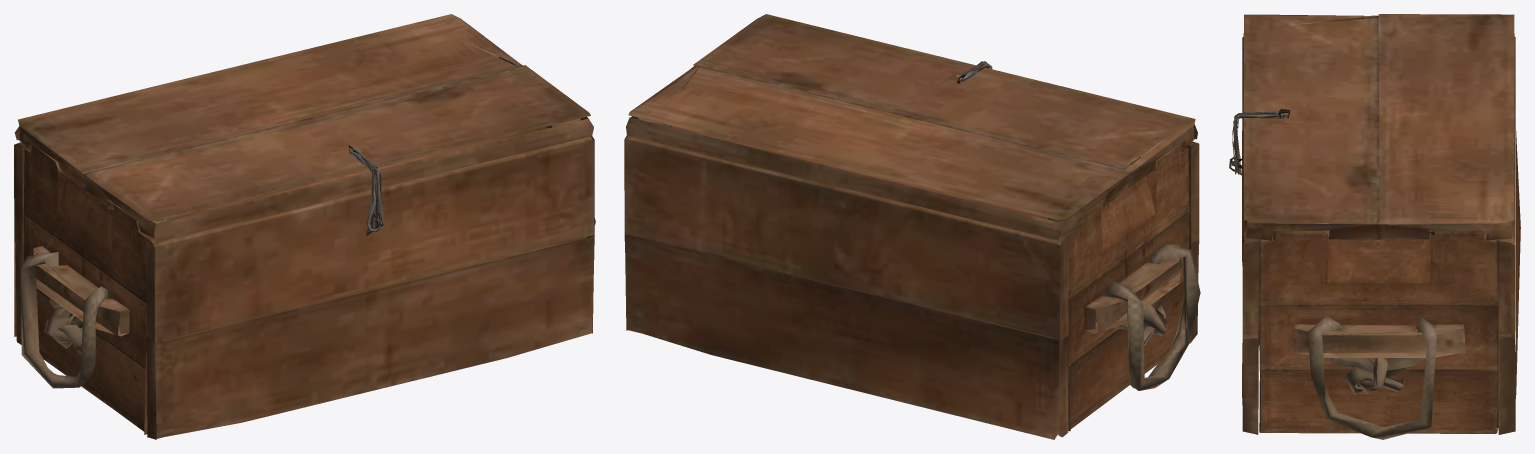
The model's file is crate.glb.
3 views of the same model, side by side, from view 1: azimuth 30°, elevation 25°; view 2: azimuth 150°, elevation 25°; view 3: azimuth 270°, elevation 25° (orthographic). The views are drawn at different scales.
Parts seen in each view (by area): view 1: wooden_crate_01_lid; view 2: wooden_crate_01_lid; view 3: wooden_crate_01_lid.
Boxes of the visible parts, x1,y1,x2,y2 form: wooden_crate_01_lid: (14, 14, 595, 439); wooden_crate_01_lid: (624, 14, 1200, 439); wooden_crate_01_lid: (1229, 14, 1520, 439).
Bounding box in the file's own units: 0.8229 × 0.3477 × 0.4139.
Materials: 1 (1 with a texture image).
